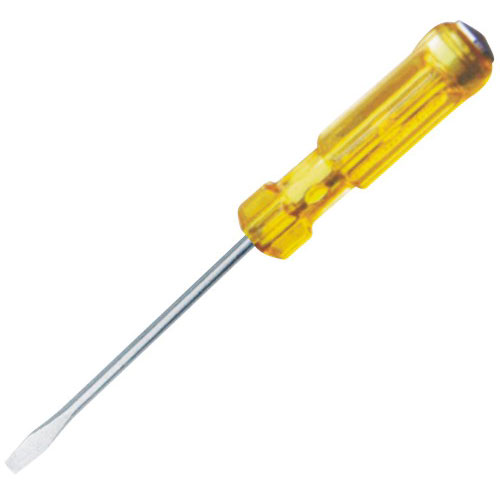screwdriver: (3, 19, 494, 474)
